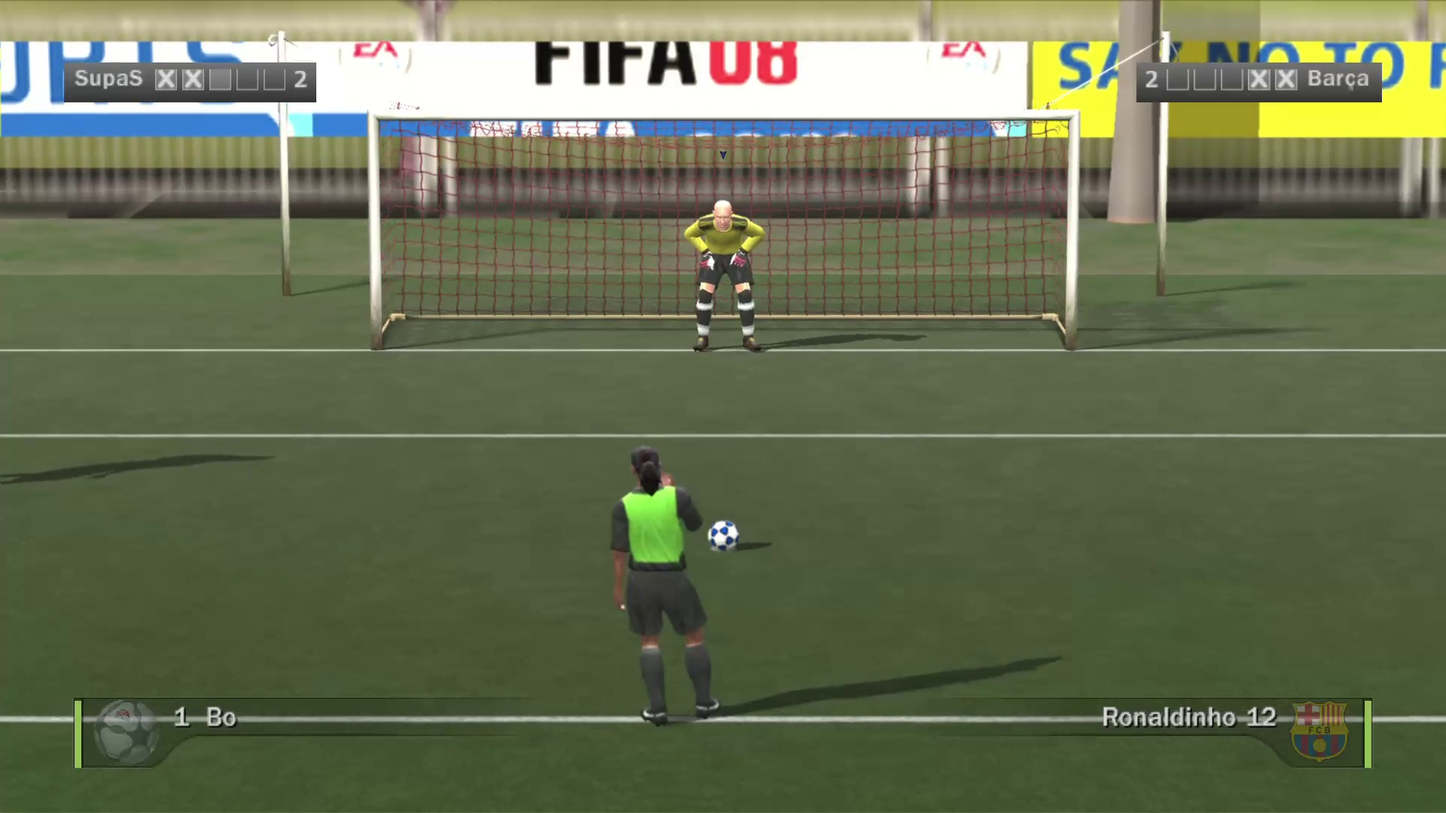ball: (687, 503, 723, 535)
goal_post: (40, 18, 723, 237)
keeper: (640, 121, 727, 277)
kicker: (561, 308, 657, 583)
